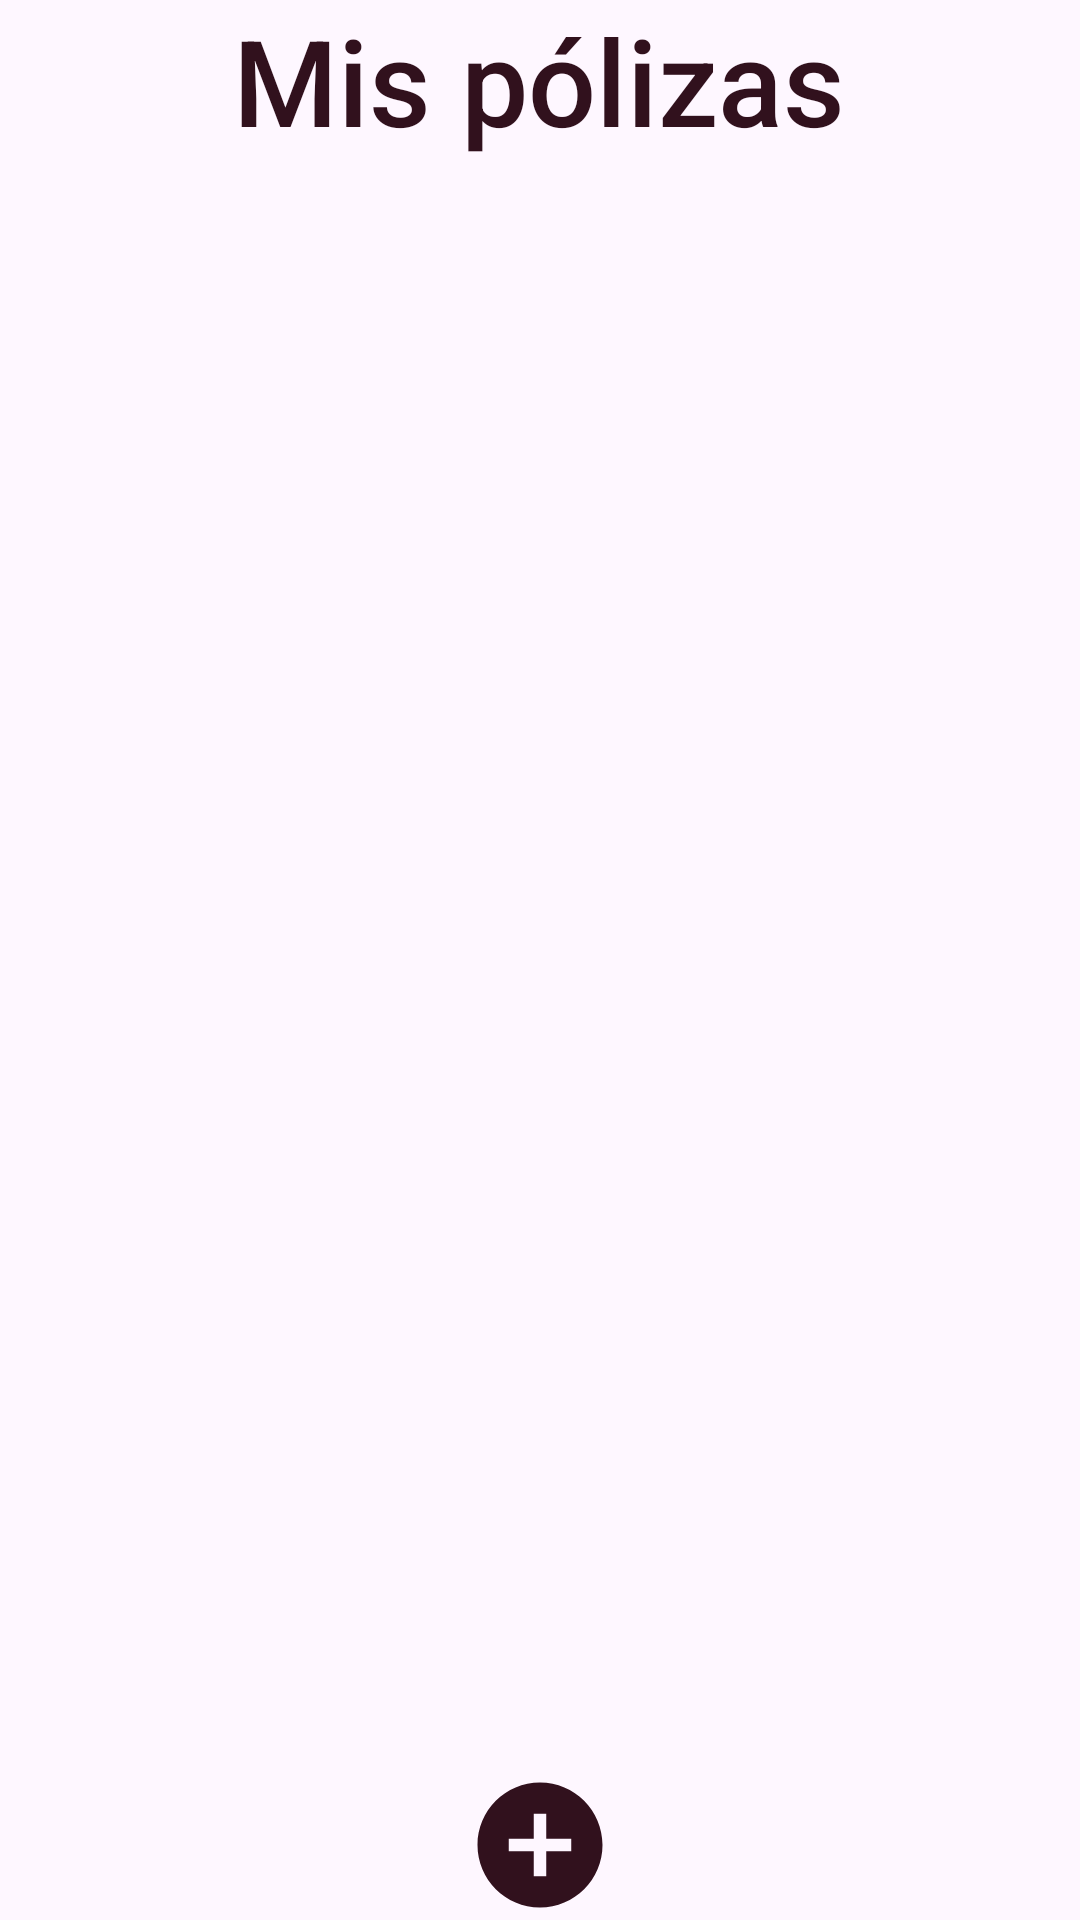

Where to tap for icons on this 1080w x 1920h app screen, as (x=x, y=y):
add circle: (x=540, y=1845)
